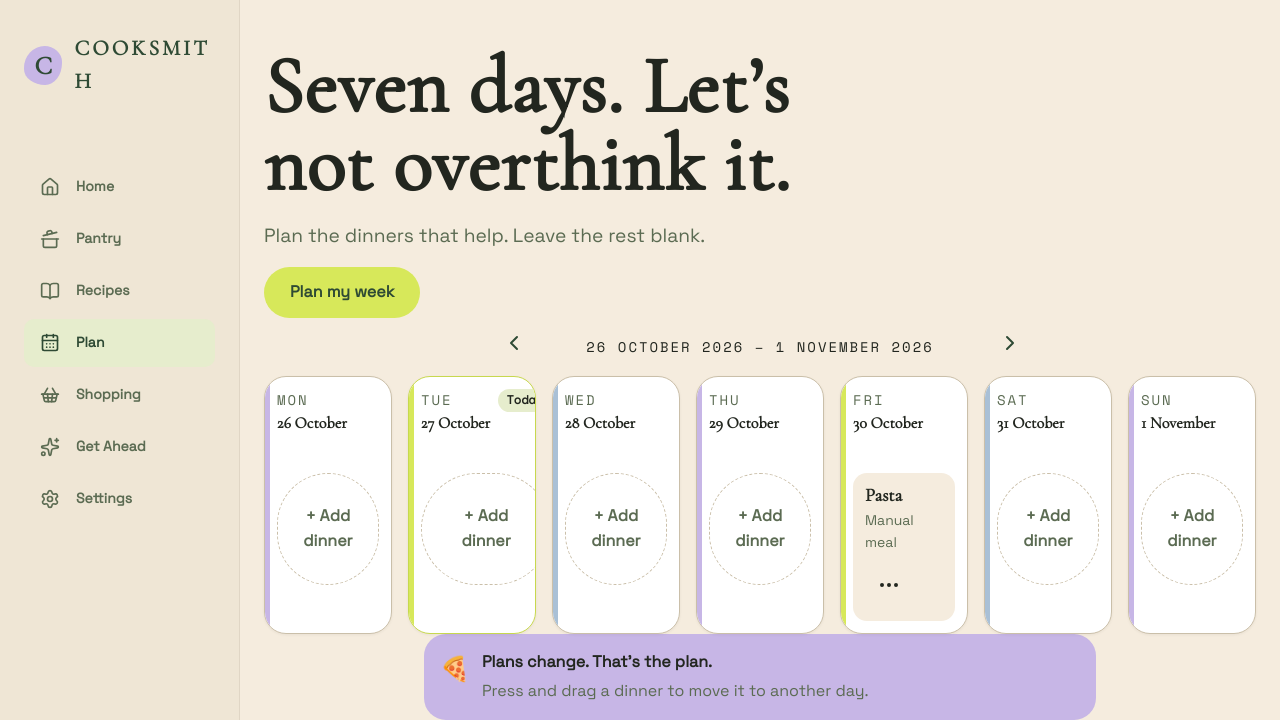
Test: weekly dinner planner › reviews and applies generated proposals only to empty days
Click the button "Plan my week". click: (342, 292)
box: 264,266 -> 420,318
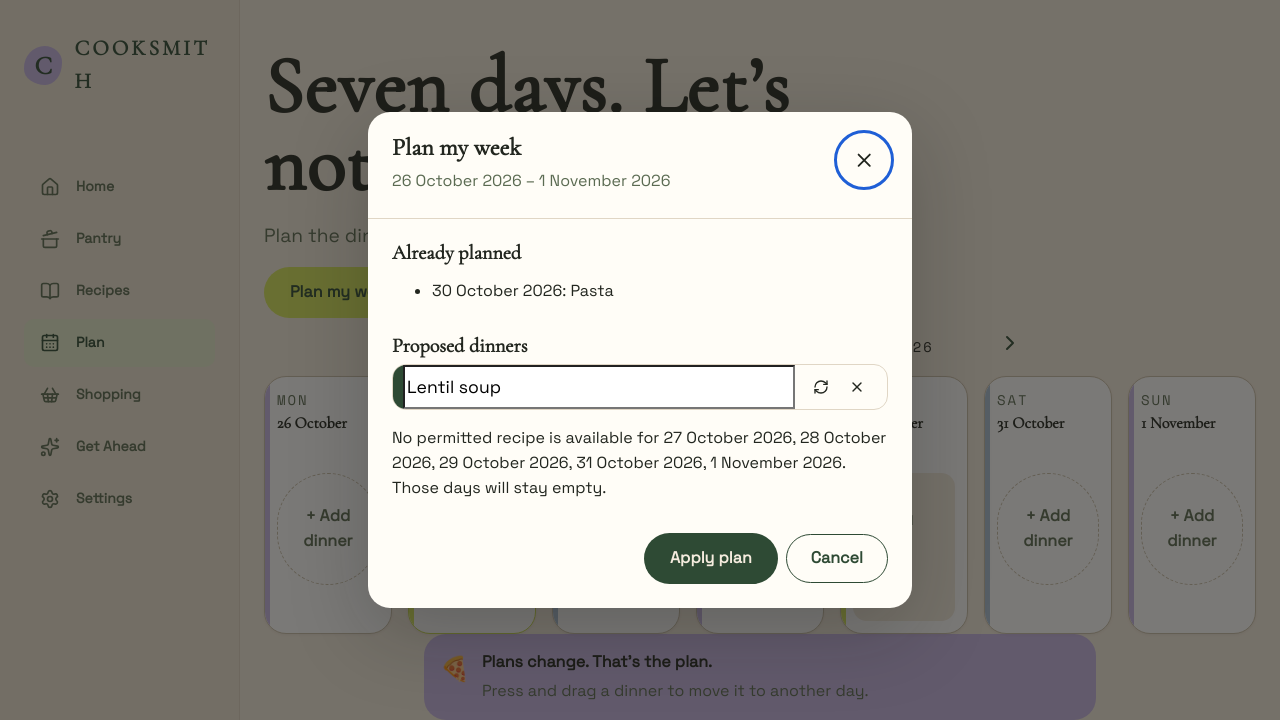
Result: the heading "Already planned" is shown at 392,241 -> 521,265
Result: the text "No permitted recipe is available" is shown at 392,427 -> 659,448
Click the button "Apply plan". click: (711, 558)
box: 644,532 -> 778,584
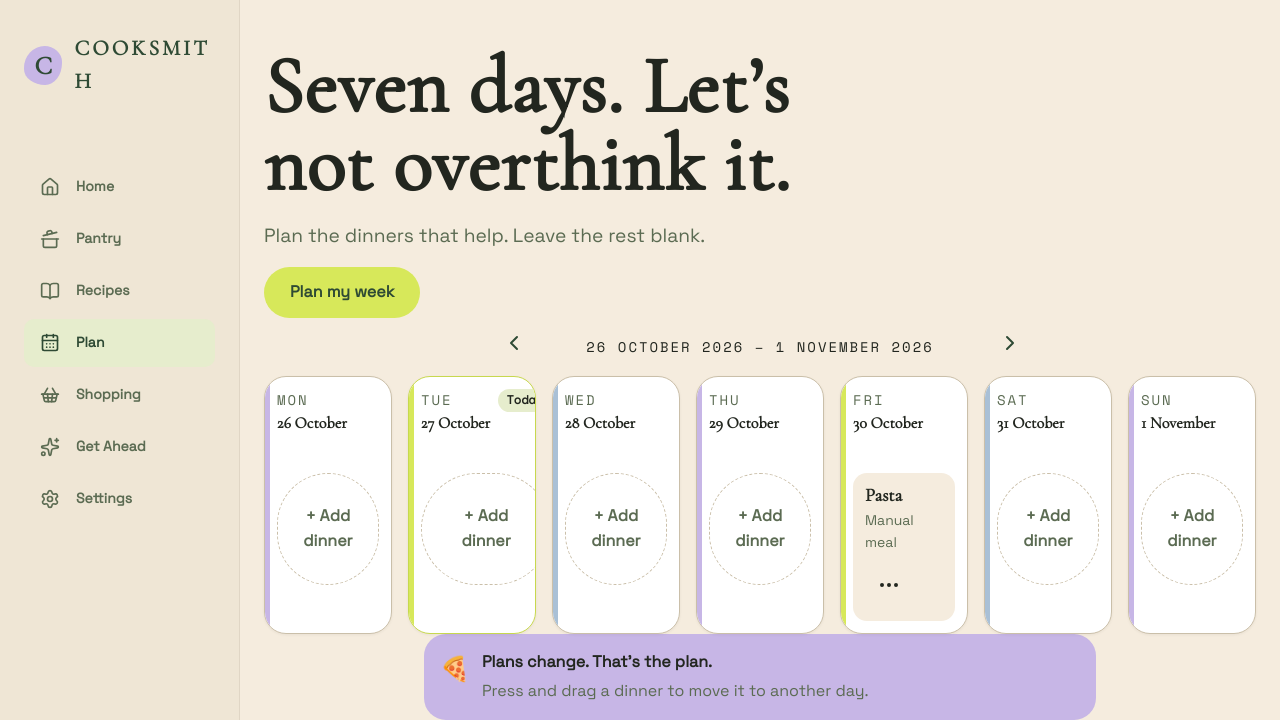
Result: the dialog is gone
